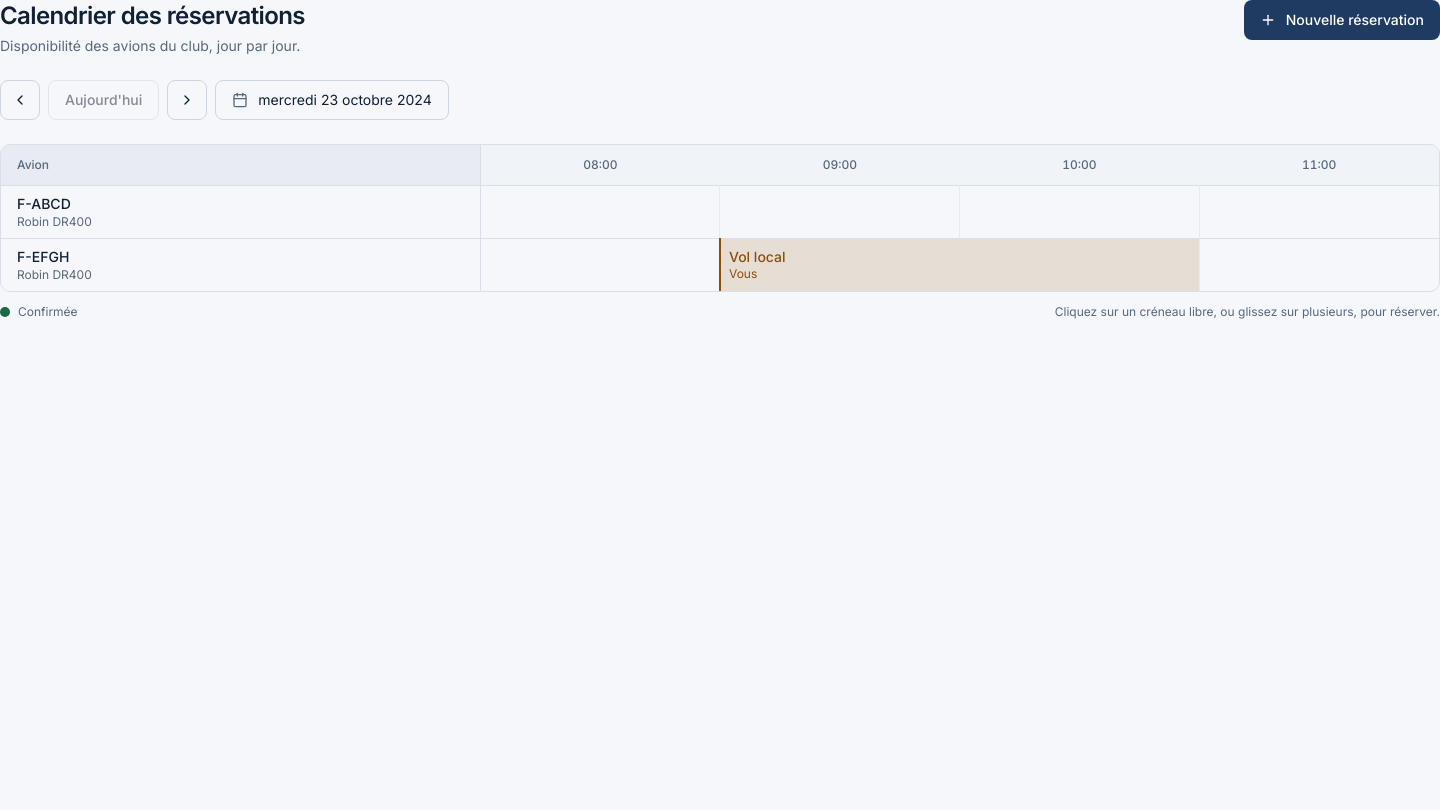
Test case: ReservationCalendar › doit proposer de modifier et de supprimer une réservation à son propriétaire
This screenshot has width=1440, height=810.
Expected: the table is shown, [1,145,1439,290]
What coordinates should you click on to do the following:
click the text "Vol local"
I would click on:
 (757, 257)
Its box is [729,248,786,265].
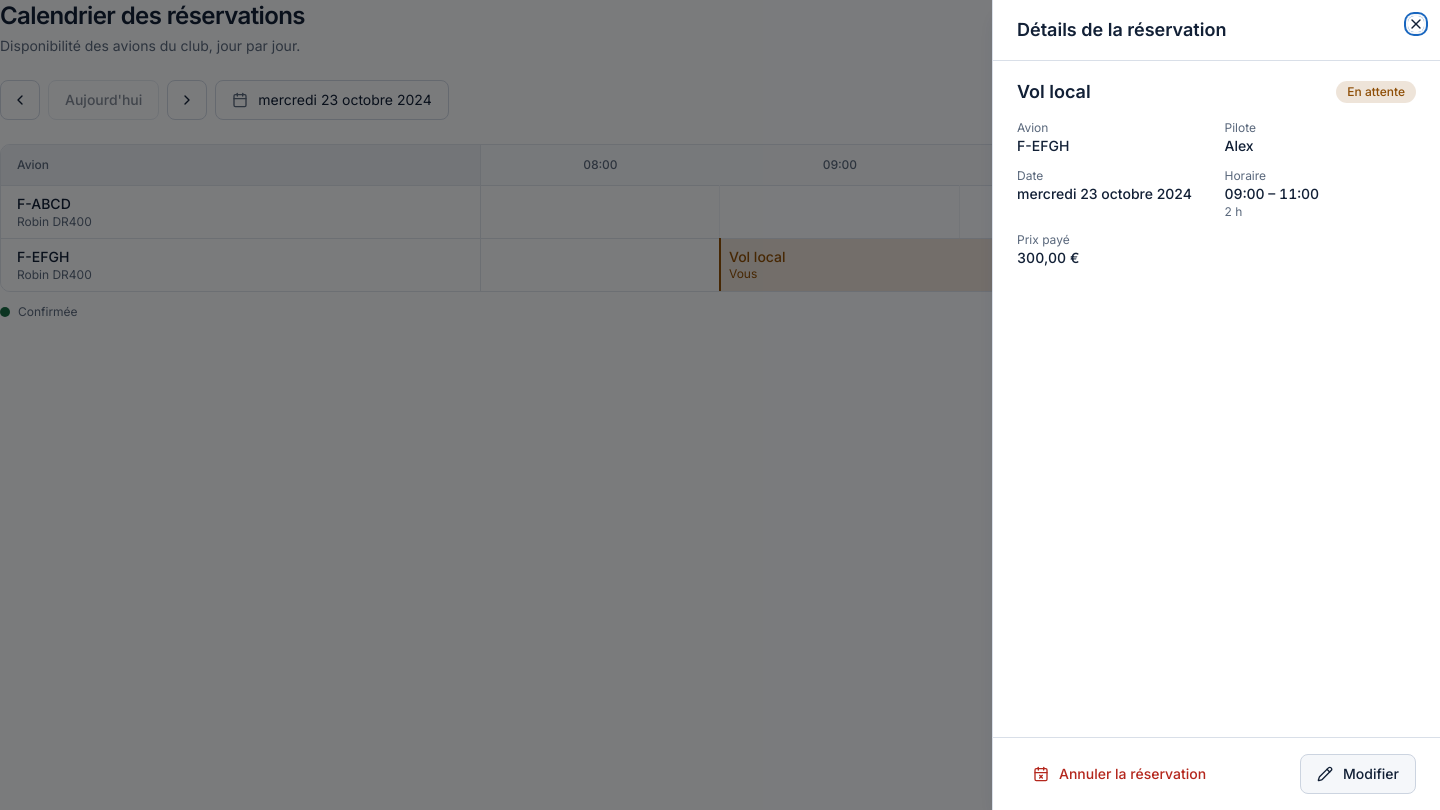
Expected: the button "Modifier" is shown, [1300,754,1416,794]
Expected: the button "Annuler la réservation" is shown, [1017,754,1222,794]
Expected: the text "Prix payé" is shown, [1017,232,1070,246]
